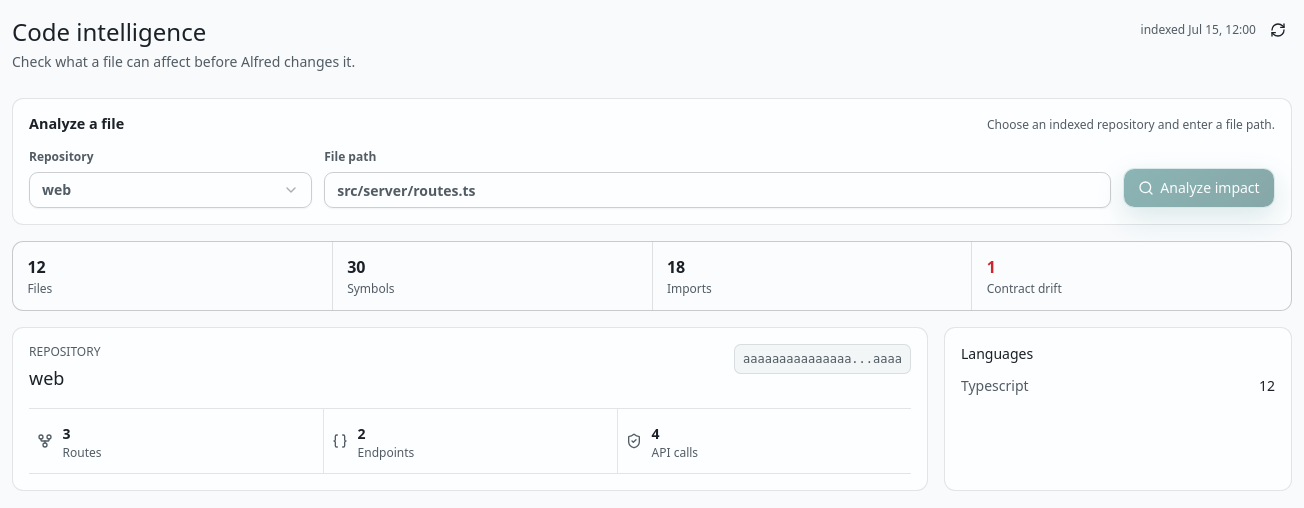
it: CodeIntelligenceView › keeps the repository catalog available
The image size is (1304, 508).
Step 1. Click the dropdown named "Repository" → {"x": 57, "y": 190}, box [29,172,312,208]
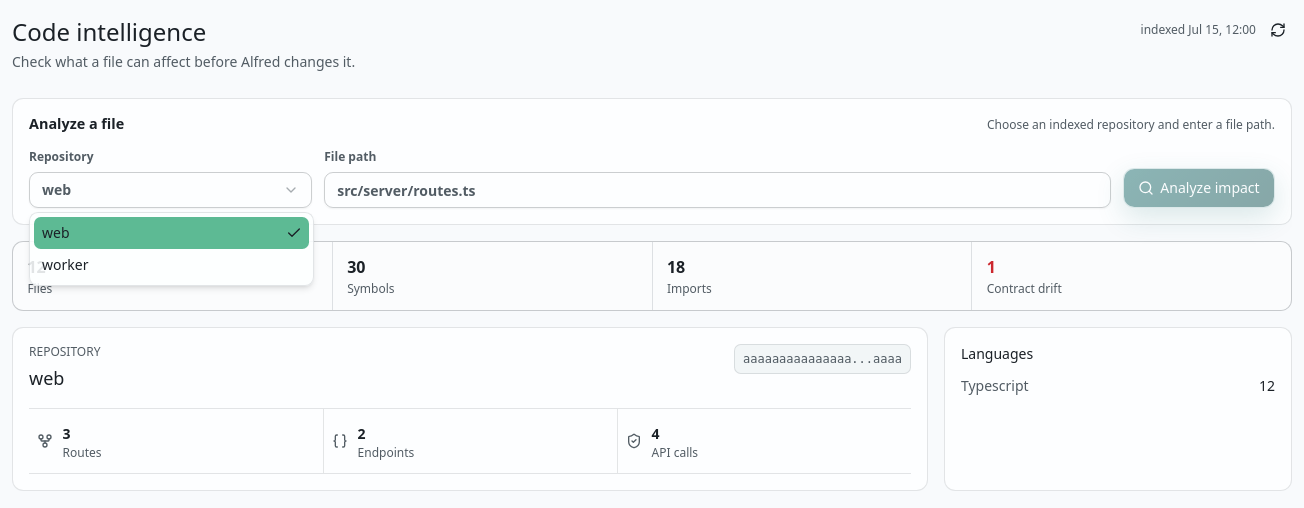
Expected: the option "worker" is shown, [42,255,88,274]
